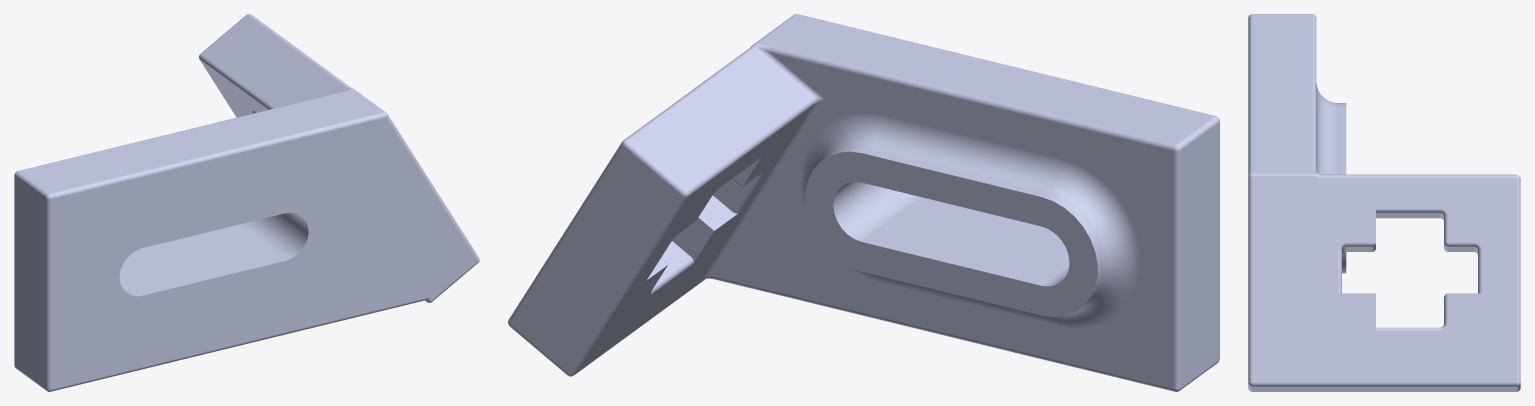
File: Practice13_1.glb
3 views of the same model, side by side, from view 1: azimuth 30°, elevation 25°; view 2: azimuth 150°, elevation 25°; view 3: azimuth 270°, elevation 25° (orthographic). The views are drawn at different scales.
Visible parts, largest first — view 1: Practice13; view 2: Practice13; view 3: Practice13.
Boxes of the visible parts, x1,y1,x2,y2 form: Practice13: [14, 14, 479, 391]; Practice13: [508, 14, 1219, 391]; Practice13: [1248, 14, 1520, 391].
Size of the model in its own units: 0.1146 by 0.0509 by 0.064.
